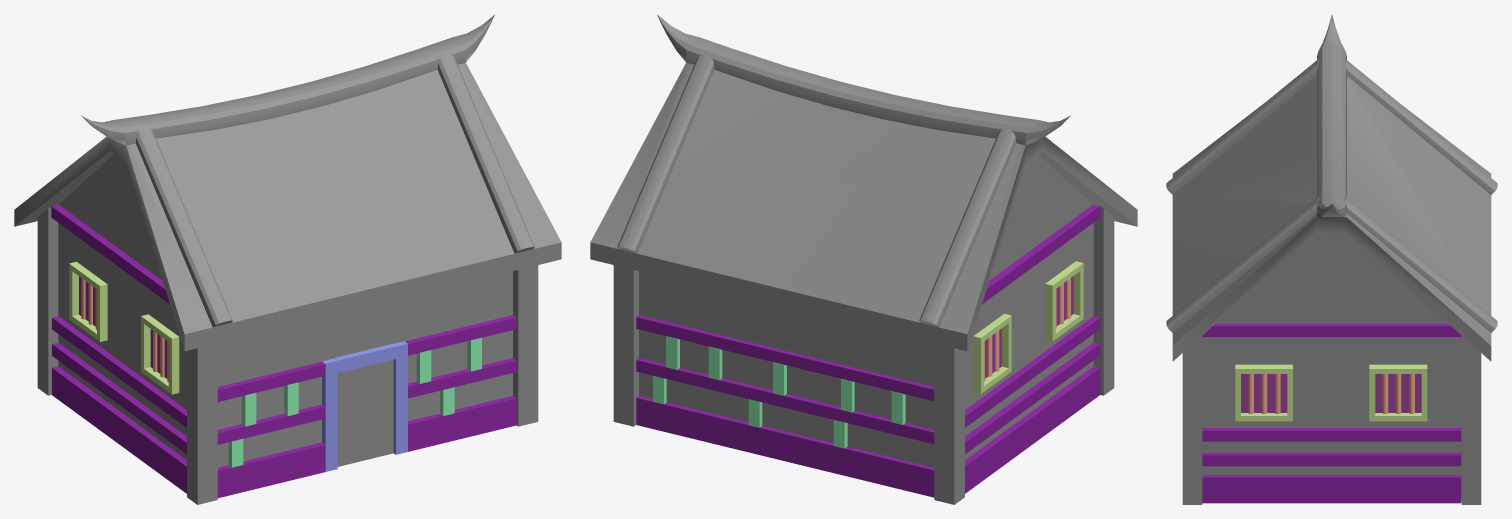
3 renders of one model, left to right at view 1: azimuth 30°, elevation 25°; view 2: azimuth 150°, elevation 25°; view 3: azimuth 270°, elevation 25°, orthographic. The views are drawn at different scales.
Parts seen in each view (by area): view 1: Shape001, Box008, Box076, Box001, Box013, Box077, Box074; view 2: Shape001, Box008, Box013, Box074, Box077; view 3: Shape001, Box008, Box079, Box078.
Boxes of the visible parts, x1,y1,x2,y2 form: Shape001: [14, 15, 561, 504]; Box008: [51, 205, 516, 498]; Box076: [337, 359, 393, 466]; Box001: [322, 341, 407, 471]; Box013: [228, 337, 481, 467]; Box077: [69, 261, 107, 341]; Box074: [141, 314, 179, 394]; Shape001: [590, 15, 1137, 504]; Box008: [636, 205, 1100, 497]; Box013: [653, 336, 905, 448]; Box074: [1045, 261, 1083, 341]; Box077: [973, 313, 1011, 393]; Shape001: [1166, 15, 1497, 504]; Box008: [1202, 323, 1461, 503]; Box079: [1369, 364, 1427, 421]; Box078: [1235, 364, 1292, 421].
Size of the model in its own units: 171 by 134 by 127.
